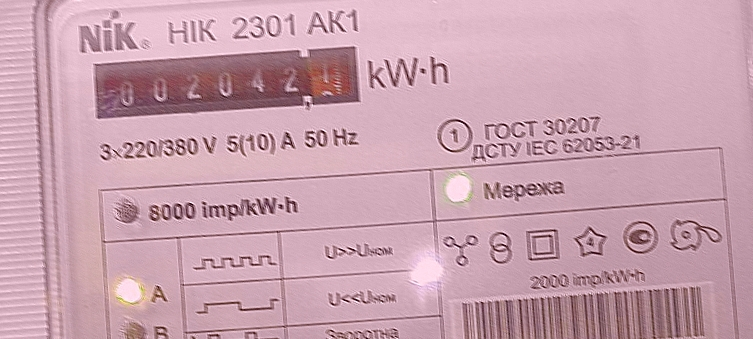0: (214, 67, 235, 99), (116, 76, 136, 108), (149, 73, 169, 105)
1: (315, 54, 332, 86)
2: (182, 71, 203, 101), (280, 63, 299, 93)
4: (247, 63, 267, 96)
screen: (87, 38, 366, 132)
